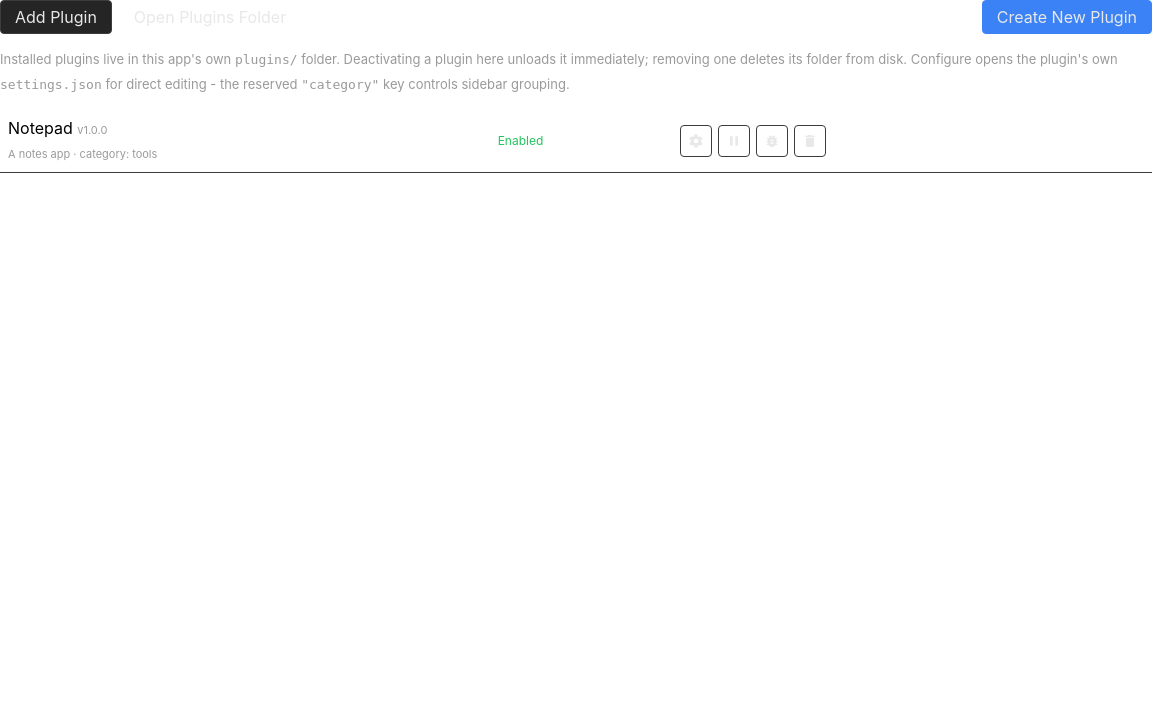
Scenario: SettingsPlugins › removes a plugin after confirming the modal and shows a success toast
This screenshot has width=1152, height=720.
Check: the text "Enabled" is shown, box [490,110,672,172]
Click the button named "Remove" at {"x": 810, "y": 141}, box [794,125,826,157]
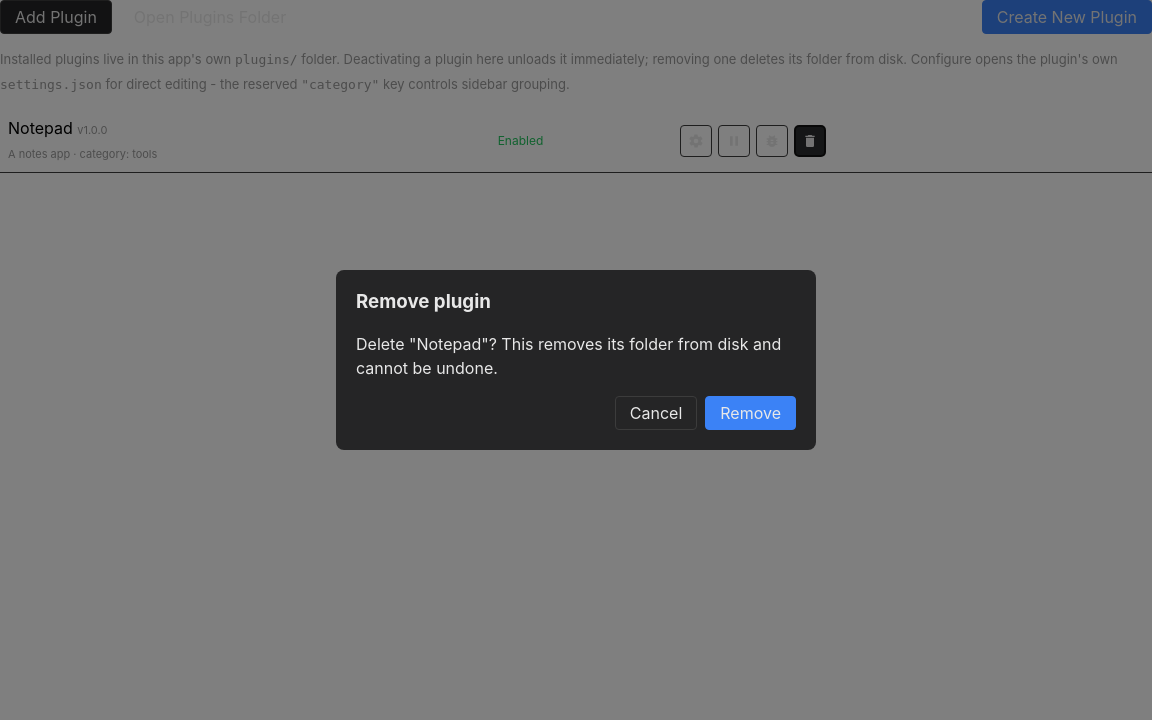
Click the button "Remove" at {"x": 751, "y": 413}, box [705,396,796,430]
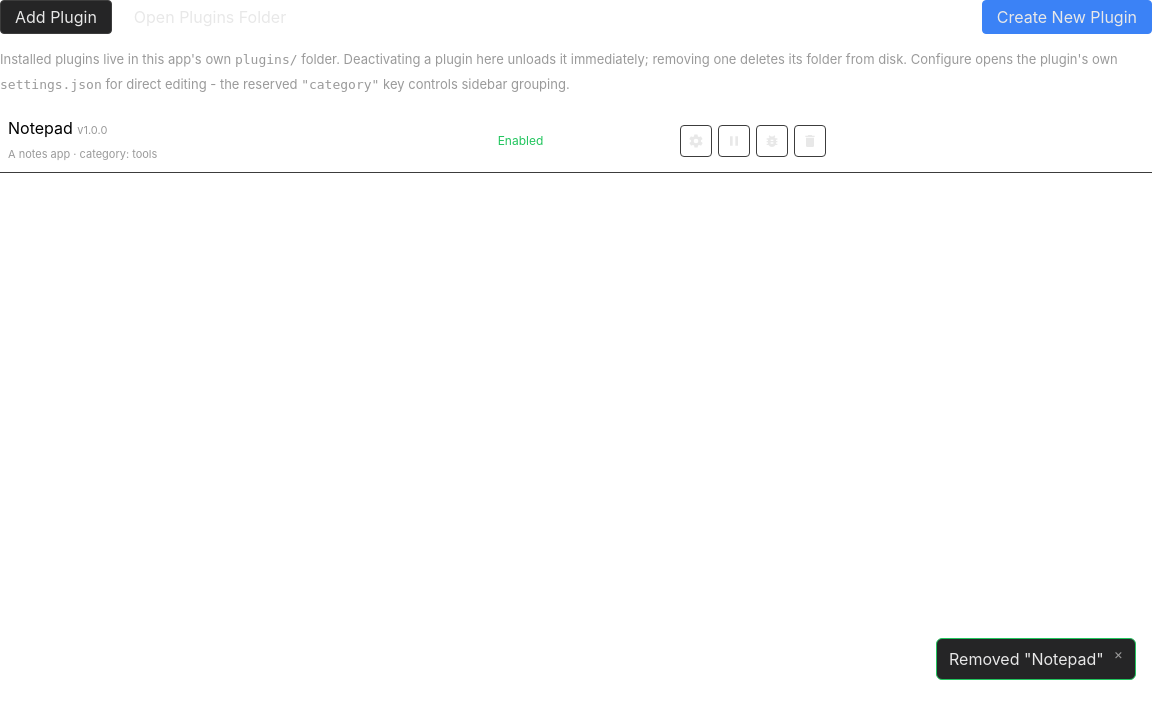
Check: the text "Removed \"Notepad\"" is shown, box [949,647,1106,671]
